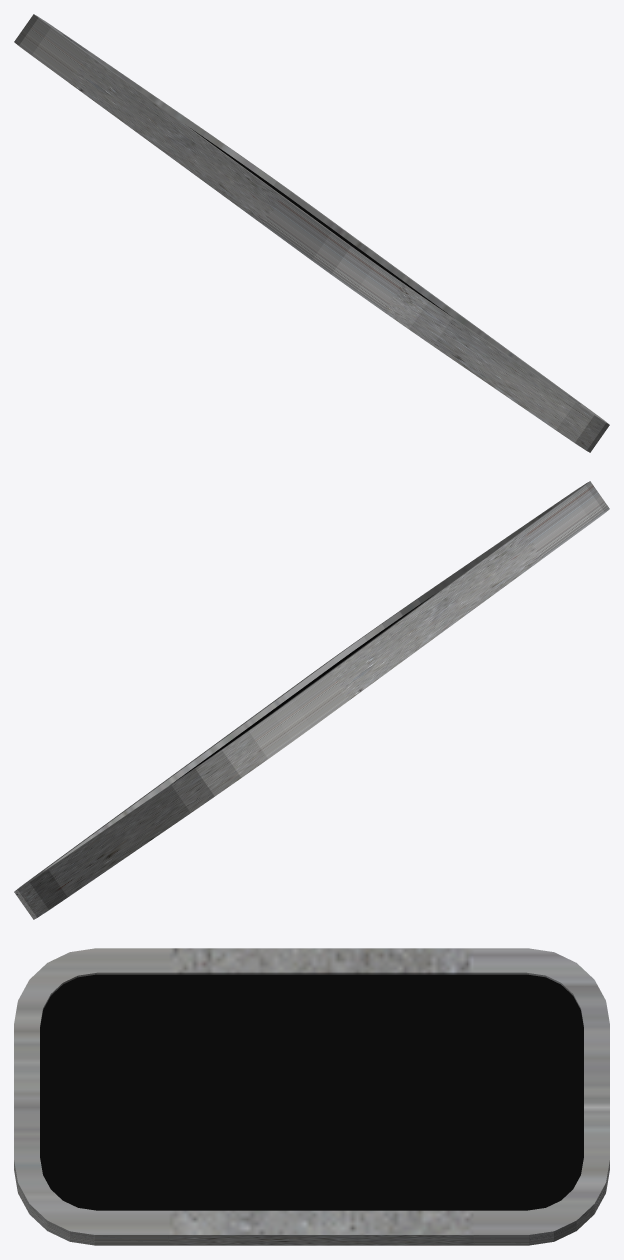
The model's file is tablet_placeholder.glb.
3 views of the same model, one above another, from view 1: azimuth 30°, elevation 25°; view 2: azimuth 150°, elevation 25°; view 3: azimuth 270°, elevation 25° (orthographic). The views are drawn at different scales.
Visible parts, largest first — view 1: Cube; view 2: Cube; view 3: Cube.
Boxes of the visible parts, box(x1,y1,x2,y2) form: Cube: box(14, 14, 609, 452); Cube: box(14, 481, 609, 919); Cube: box(14, 948, 609, 1245).
Size of the model in its own units: 5.54 by 5.01 by 13.14.
2 materials, 1 textured.
